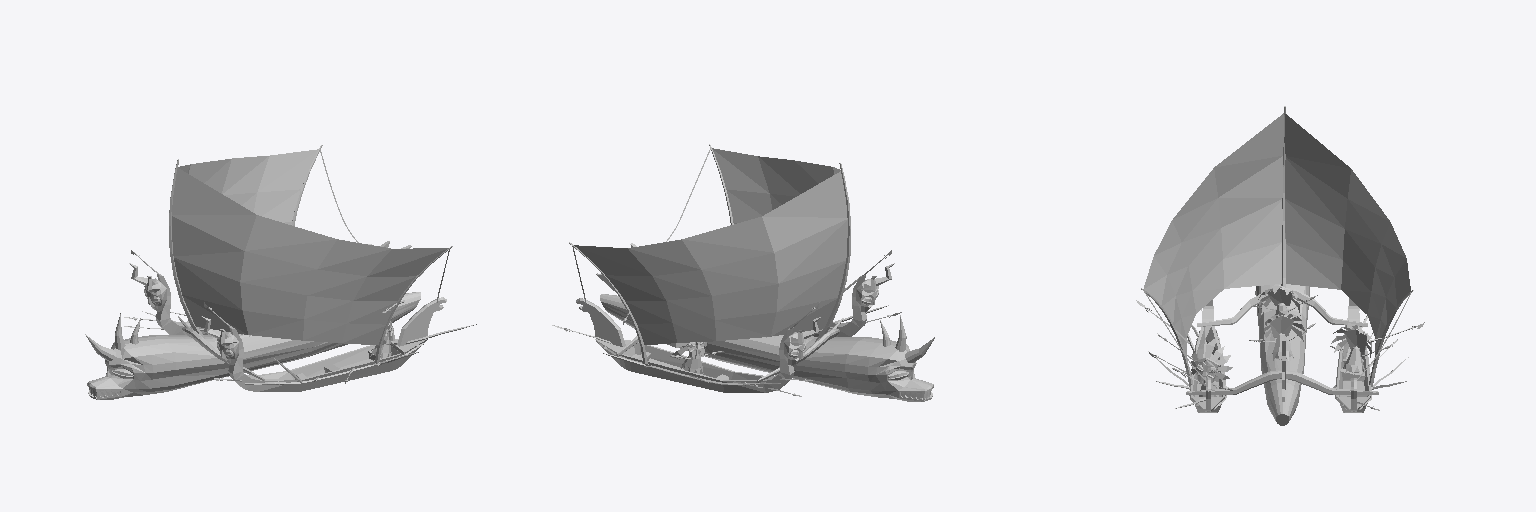
File: BoatEnnemiChargeur.obj
The picture shows the model from 3 angles: view 1: azimuth 30°, elevation 25°; view 2: azimuth 150°, elevation 25°; view 3: azimuth 270°, elevation 25°; orthographic projection.
Visible parts, largest first — view 1: EnnemiBoatSmall001; view 2: EnnemiBoatSmall001; view 3: EnnemiBoatSmall001.
Boxes of the visible parts, box(x1,y1,x2,y2) form: EnnemiBoatSmall001: box(85, 145, 476, 399); EnnemiBoatSmall001: box(552, 144, 934, 401); EnnemiBoatSmall001: box(1136, 106, 1424, 425).
Size of the model in its own units: 223 by 142 by 165.